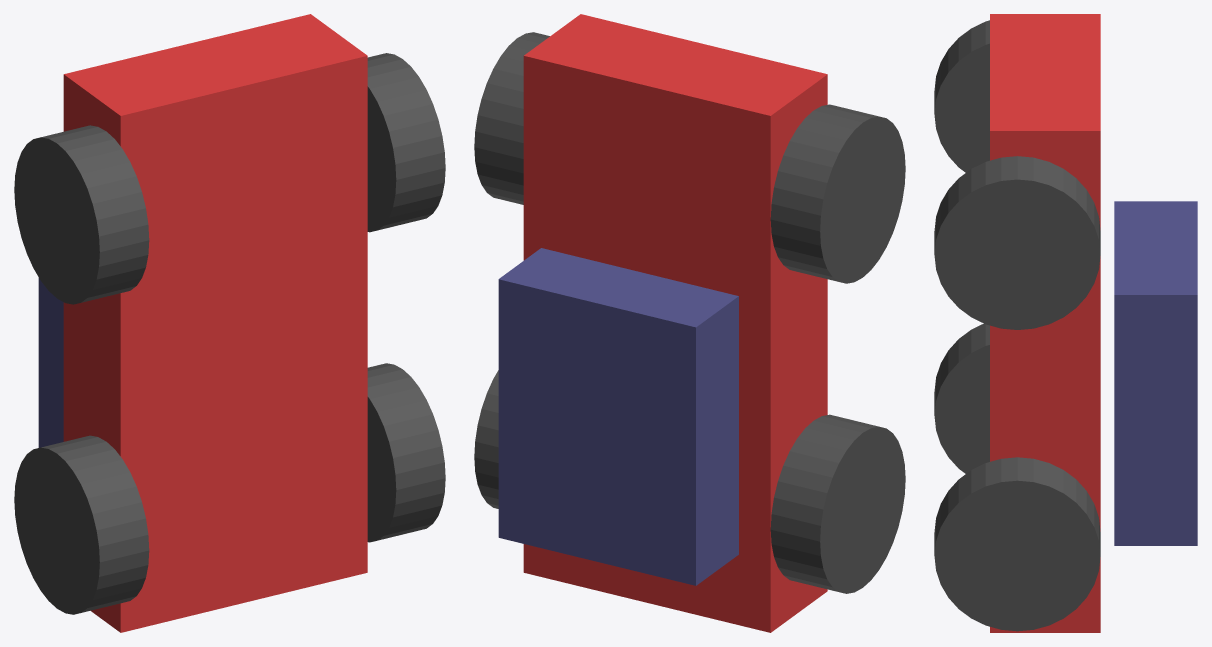
File: car.glb
3 views of the same model, side by side, from view 1: azimuth 30°, elevation 25°; view 2: azimuth 150°, elevation 25°; view 3: azimuth 270°, elevation 25° (orthographic). The views are drawn at different scales.
Parts seen in each view (by area): view 1: Car; view 2: Car; view 3: Car.
Part boxes in pixels (x1,y1,x2,y2): Car: (14,14,445,632); Car: (474,14,905,632); Car: (934,14,1197,632).
Bounding box in the file's own units: 1.4 × 2 × 0.95.
